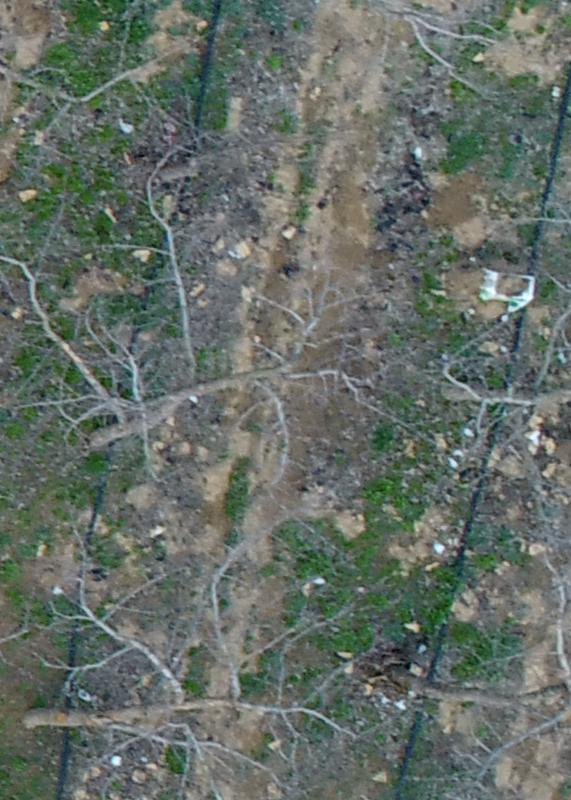apple: (10, 136, 395, 503), (10, 518, 364, 790), (289, 10, 530, 110)
